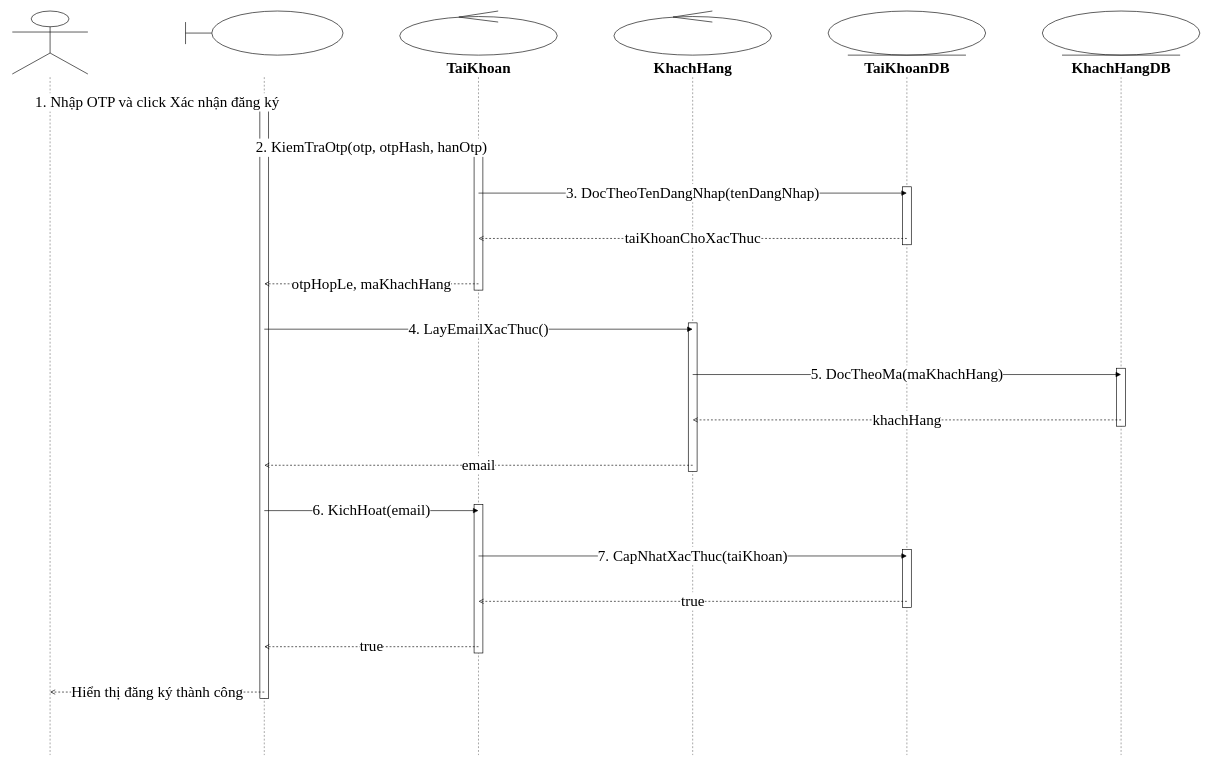
Some shapes in this 1211 by 767 pixel diagram are drawn without their labels. Here are the shapes that lost their labels. From the top down, the box of each, then its label:
(12, 10, 88, 74): Khách hàng
(185, 10, 343, 55): MHXacThucOtpDangKy
